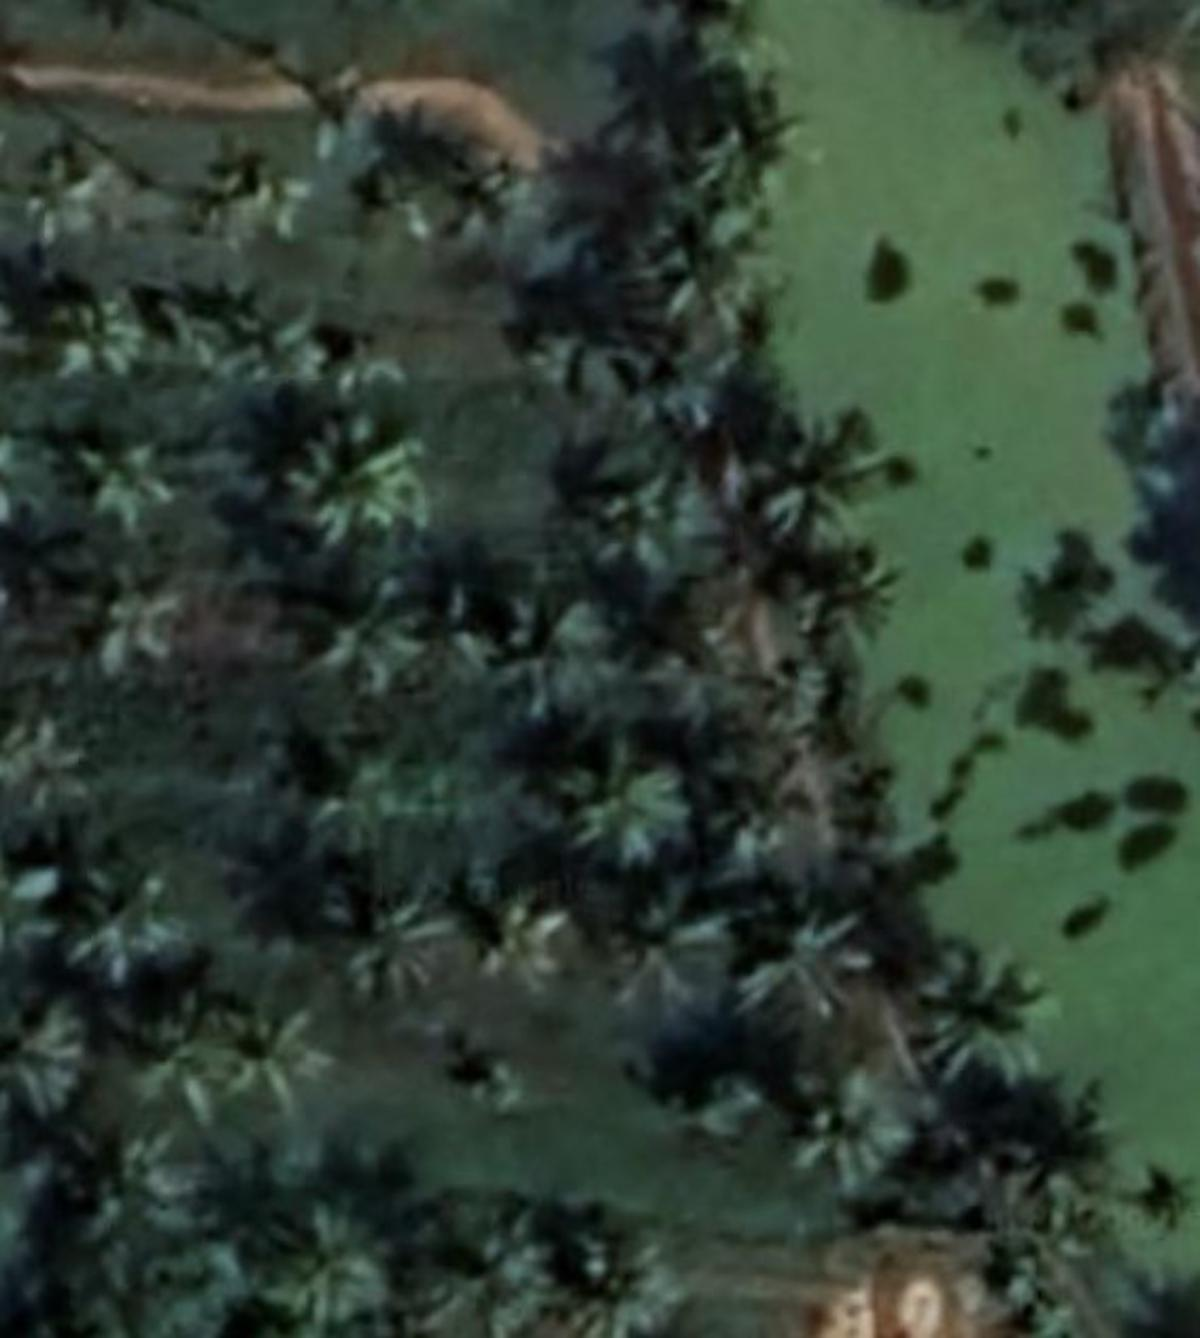coconut: (925, 934, 1078, 1091), (47, 849, 191, 1008), (256, 422, 412, 558), (319, 882, 467, 1025), (686, 74, 834, 206), (796, 1053, 930, 1197), (546, 732, 686, 868), (242, 1189, 378, 1329), (505, 573, 639, 712), (643, 199, 793, 314), (314, 571, 442, 700), (116, 1021, 242, 1151), (225, 987, 337, 1131), (2, 984, 108, 1136), (546, 1223, 686, 1338), (65, 441, 202, 556), (732, 917, 868, 1028), (603, 875, 720, 1002), (229, 297, 344, 422), (82, 569, 197, 688), (568, 448, 698, 547), (473, 882, 571, 1012), (41, 280, 146, 399), (758, 424, 864, 538), (210, 161, 329, 244), (429, 136, 546, 218), (151, 299, 229, 397), (331, 337, 426, 416)
